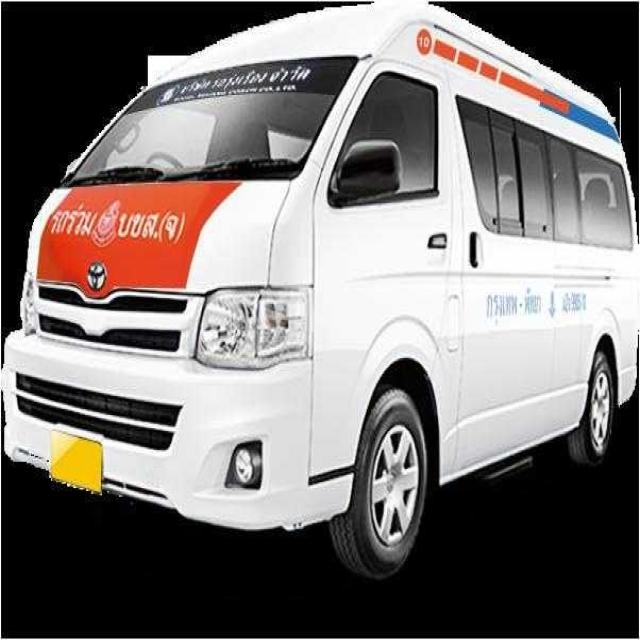Van: (6, 0, 640, 581)
